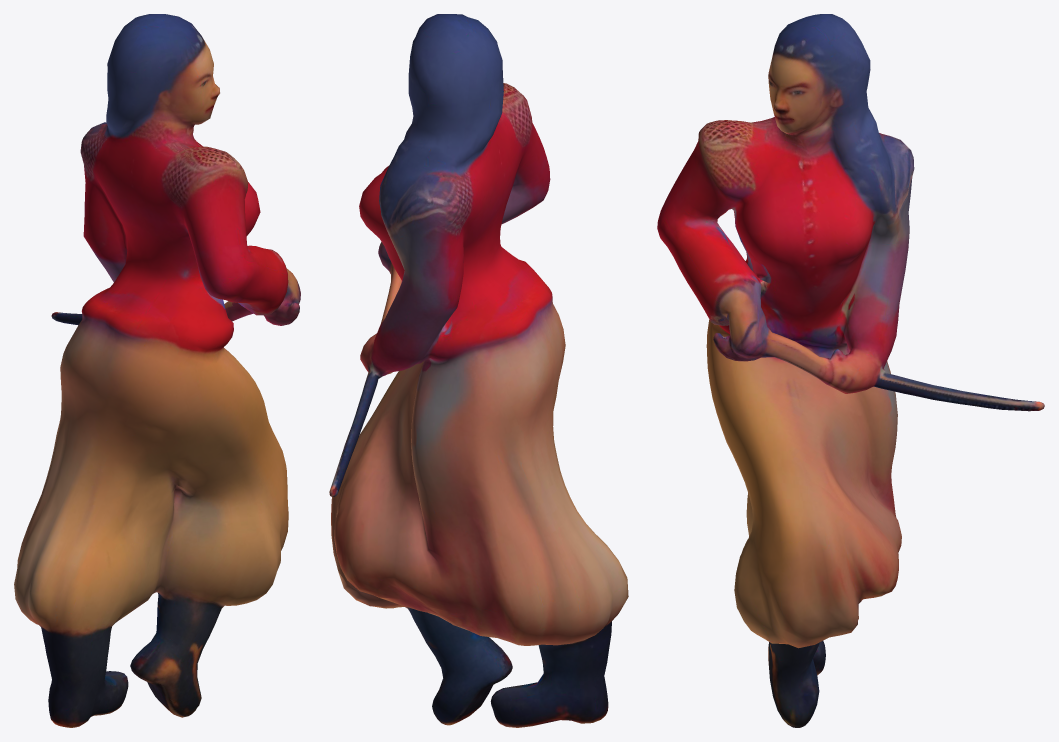
File: juanaV4.glb
The picture shows the model from 3 angles, left to right: view 1: azimuth 30°, elevation 25°; view 2: azimuth 150°, elevation 25°; view 3: azimuth 270°, elevation 25°; orthographic projection. The views are drawn at different scales.
Parts seen in each view (by area): view 1: tripo_node_9496e8a8-31a9-412d-b7b5-900b2736188a; view 2: tripo_node_9496e8a8-31a9-412d-b7b5-900b2736188a; view 3: tripo_node_9496e8a8-31a9-412d-b7b5-900b2736188a.
Boxes of the visible parts, left/top/right/bottom form: tripo_node_9496e8a8-31a9-412d-b7b5-900b2736188a: left=14, top=14, right=300, bottom=727; tripo_node_9496e8a8-31a9-412d-b7b5-900b2736188a: left=329, top=14, right=628, bottom=727; tripo_node_9496e8a8-31a9-412d-b7b5-900b2736188a: left=657, top=14, right=1044, bottom=727.
Size of the model in its own units: 0.3743 by 0.9467 by 0.4741.
Materials: 1 (1 with a texture image).
